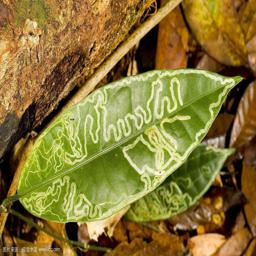liriomyza: (19, 68, 233, 223)
